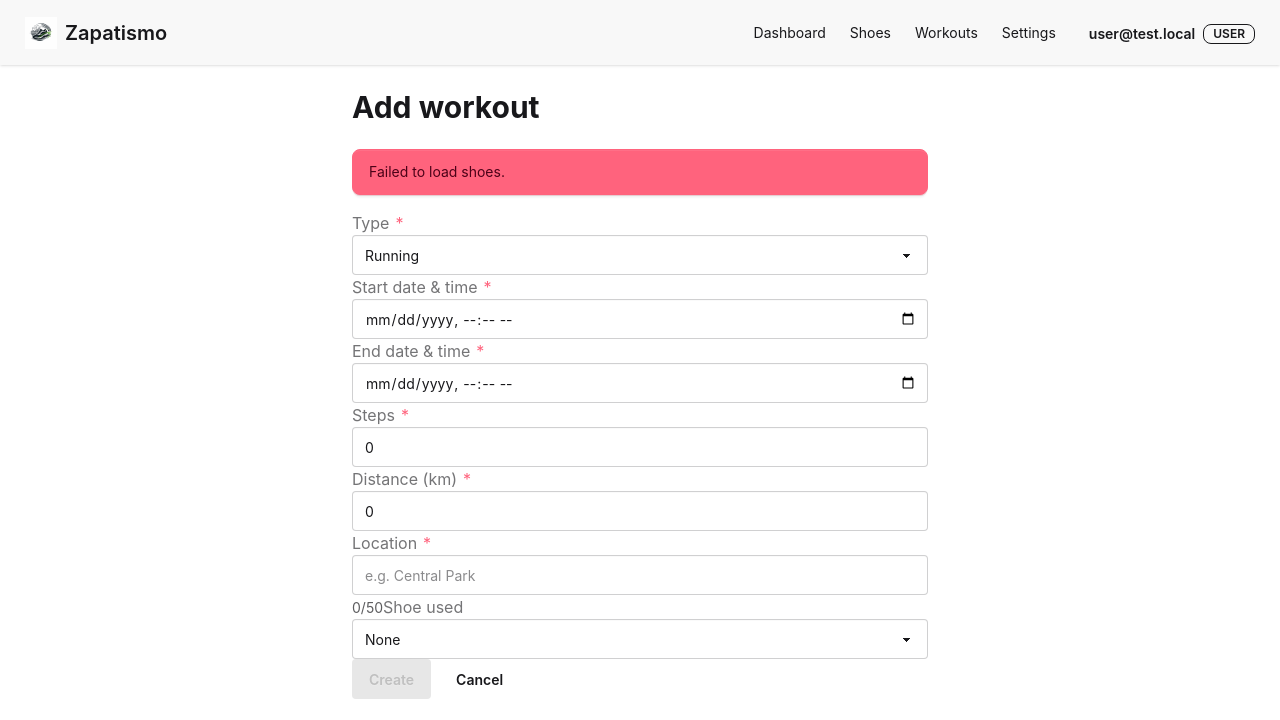
Test case: Workouts › e2e › Error Handling › form shows error on create 400
Select "Running" in the dropdown with test id "workout-type" at point(640, 255), box [352,235,928,275]
Type "2025-02-25T08:00" into the field with test id "workout-start-time" at point(640, 319), box [352,299,928,339]
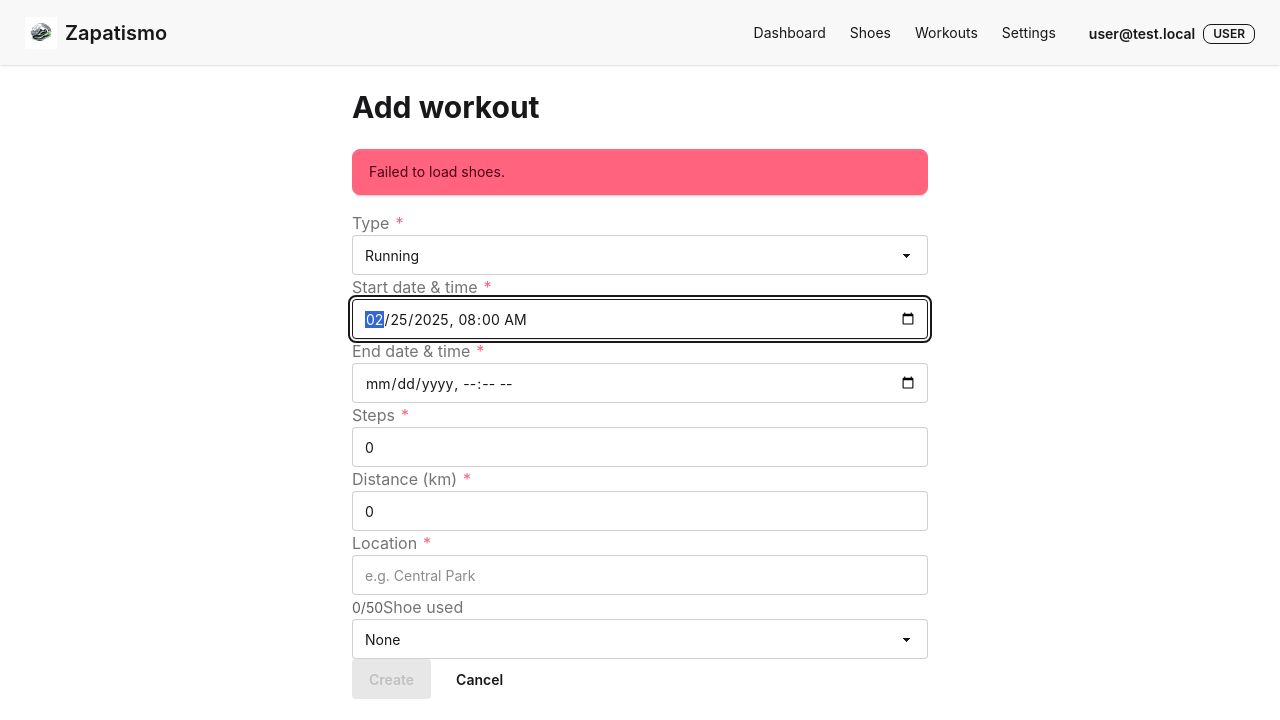
Type "2025-02-25T09:00" into the field with test id "workout-end-time" at point(640, 383), box [352,363,928,403]
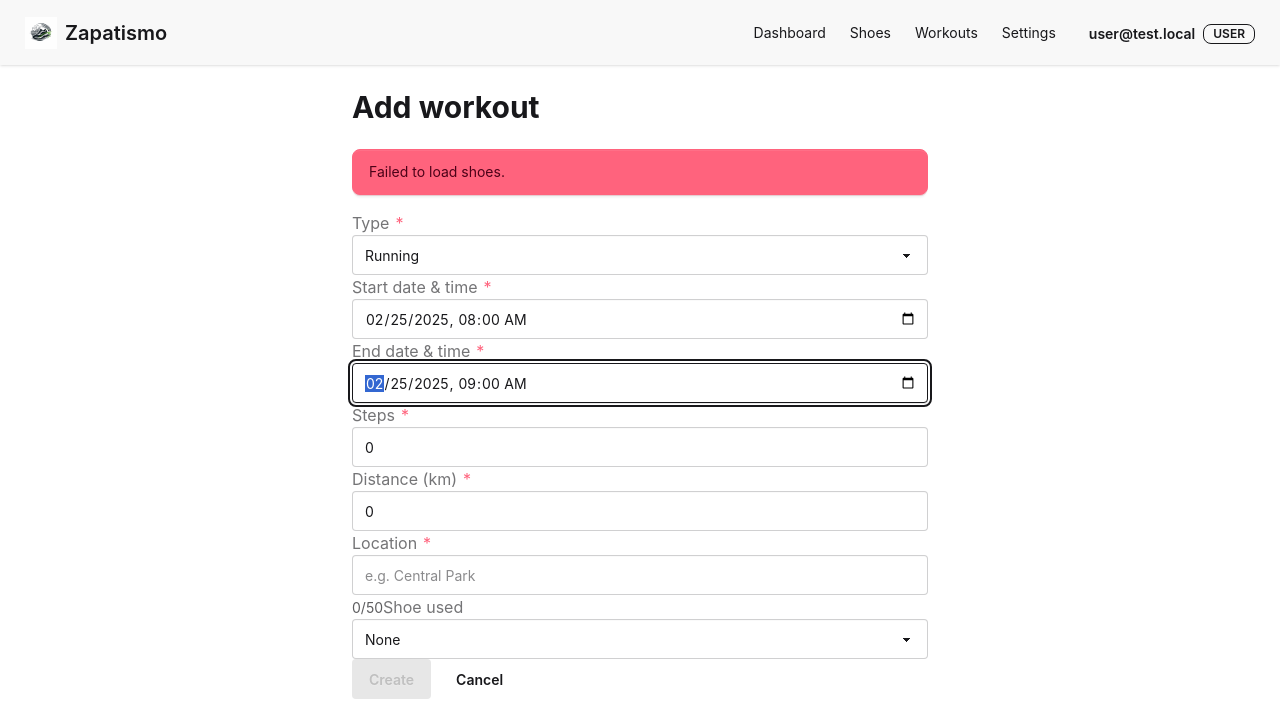
Replace the text in the number field with test id "workout-steps" with "5000" at point(640, 447), box [352,427,928,467]
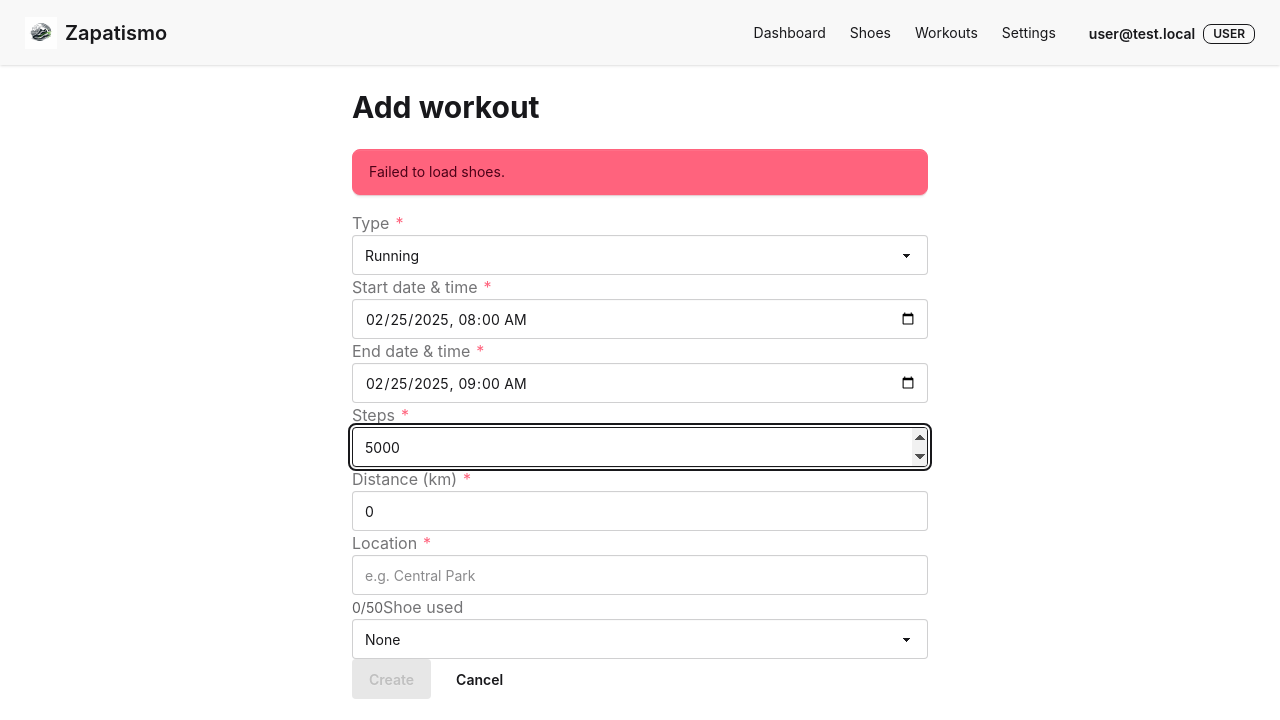
Replace the text in the number field with test id "workout-distance" with "10" at point(640, 511), box [352,491,928,531]
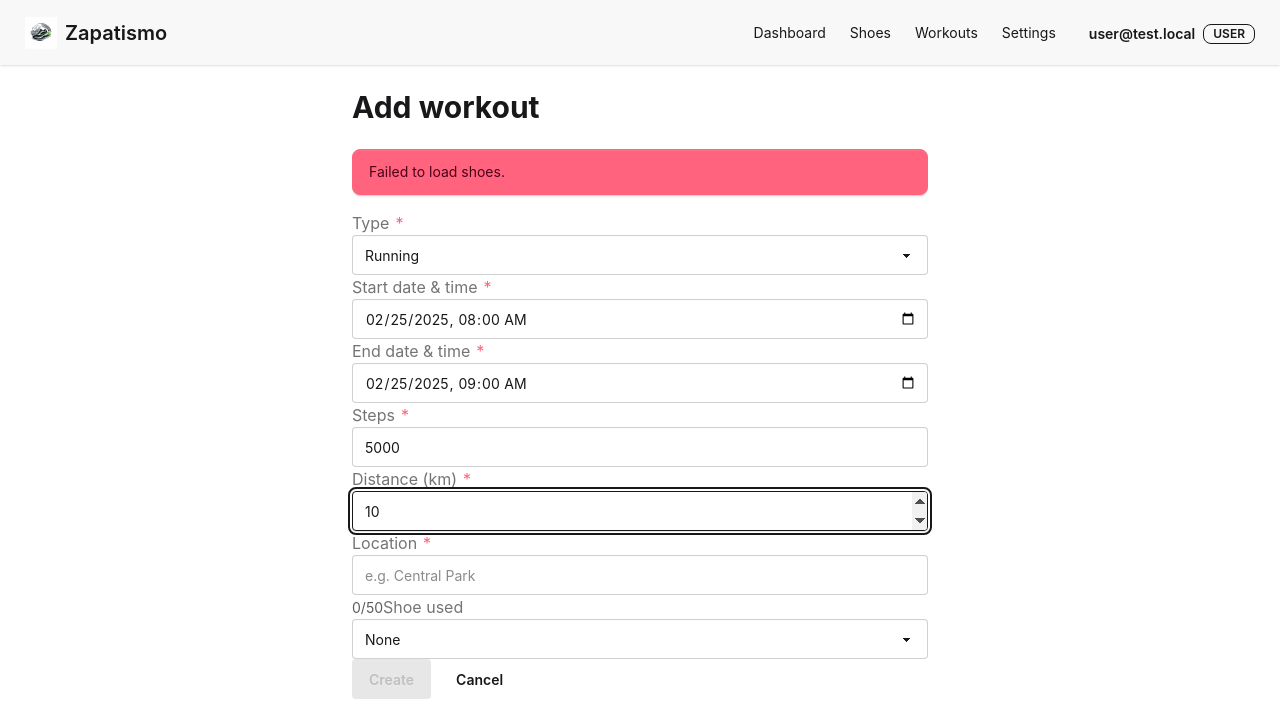
Type "Test Location" into the field with test id "workout-location" at point(640, 575), box [352,555,928,595]
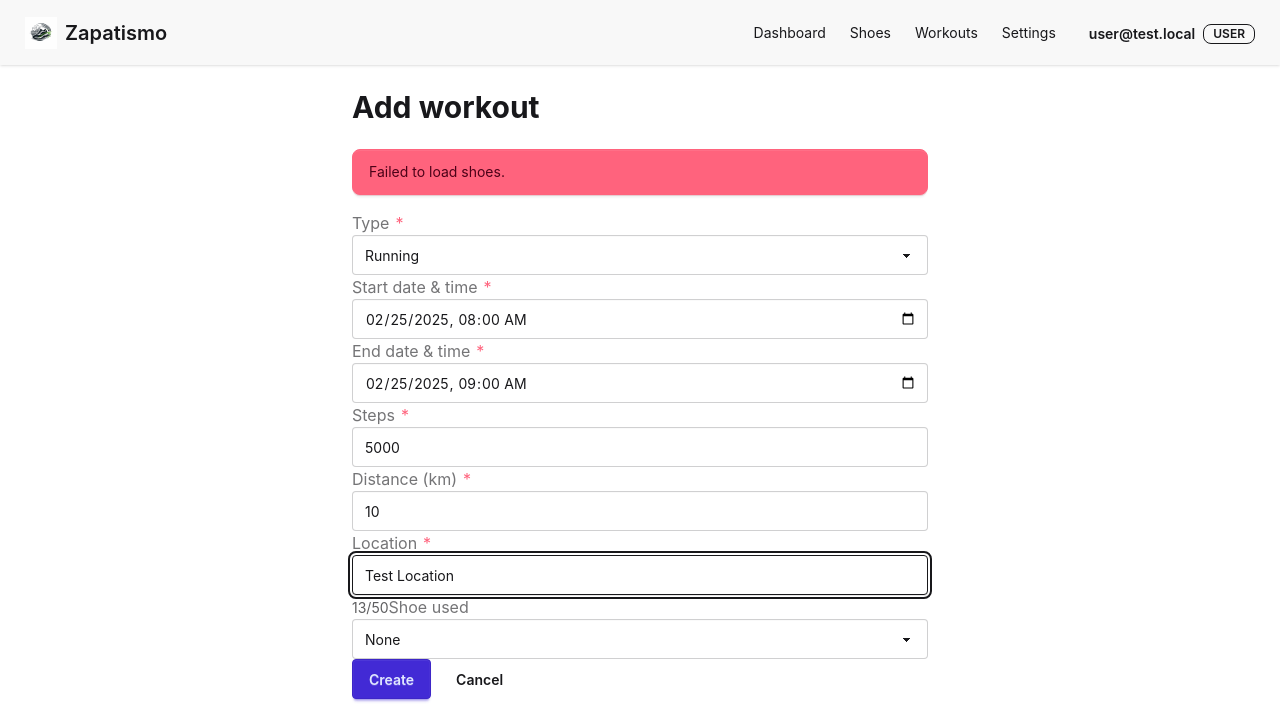
Click the button with test id "workout-submit" at point(392, 679), box [352,659,431,699]
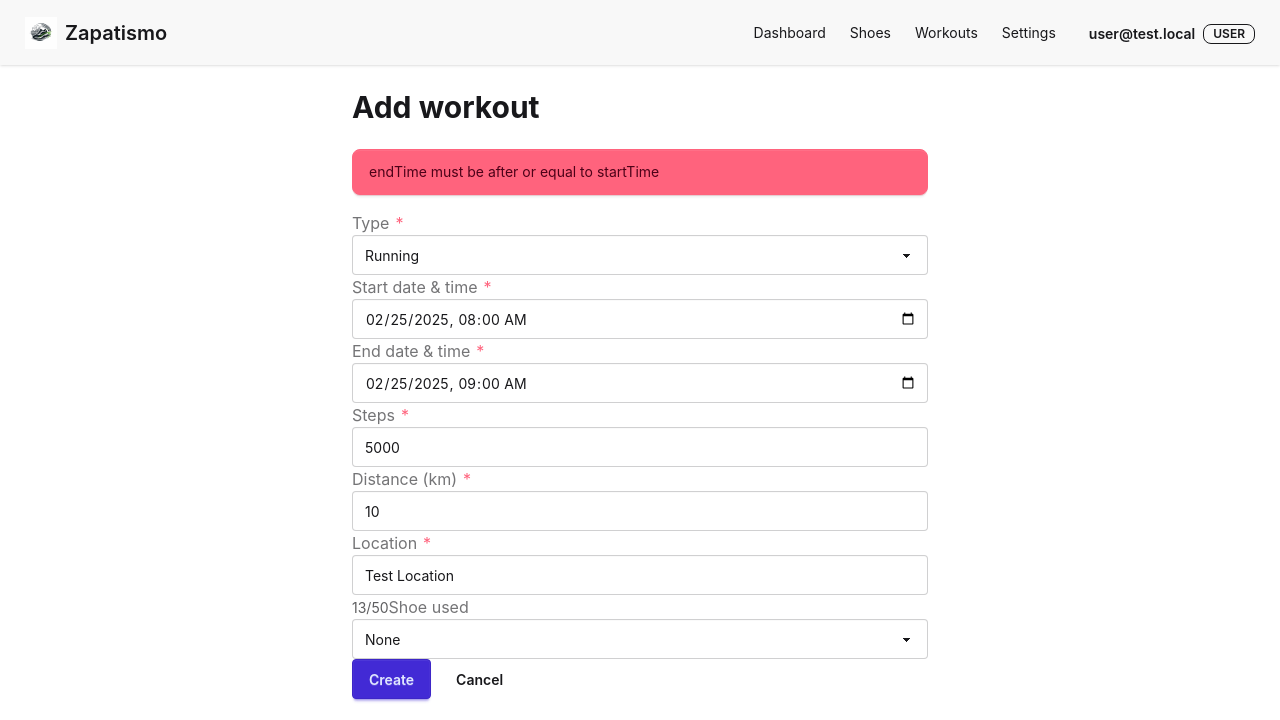
Expected: the message "endTime must be after or equal to startTime" is shown, [352,149,928,195]
Expected: the text with test id "workout-form-error" shows "endTime", [369,163,659,180]
